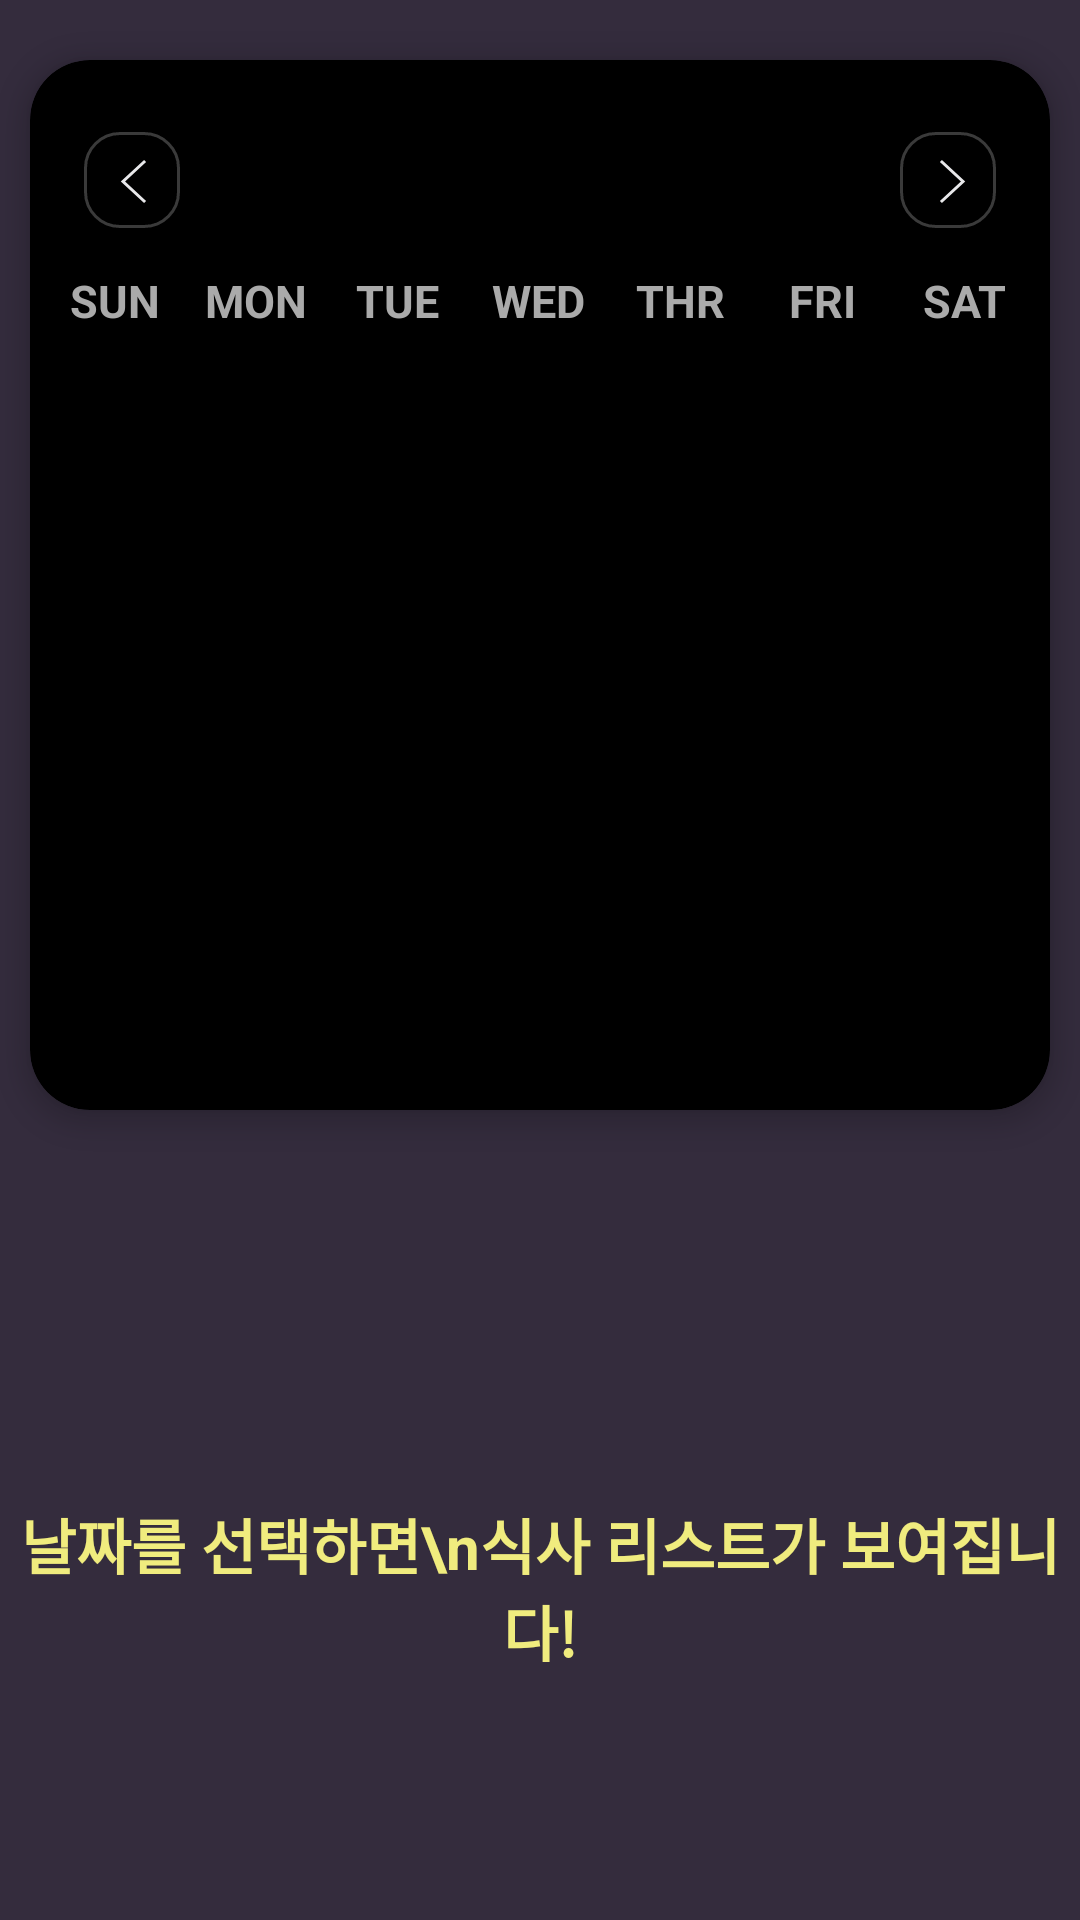

Icons on this 1080*1920 Android screen, each with the point to tap as (x=x, y=y):
next: (x=948, y=180)
previous: (x=132, y=180)
